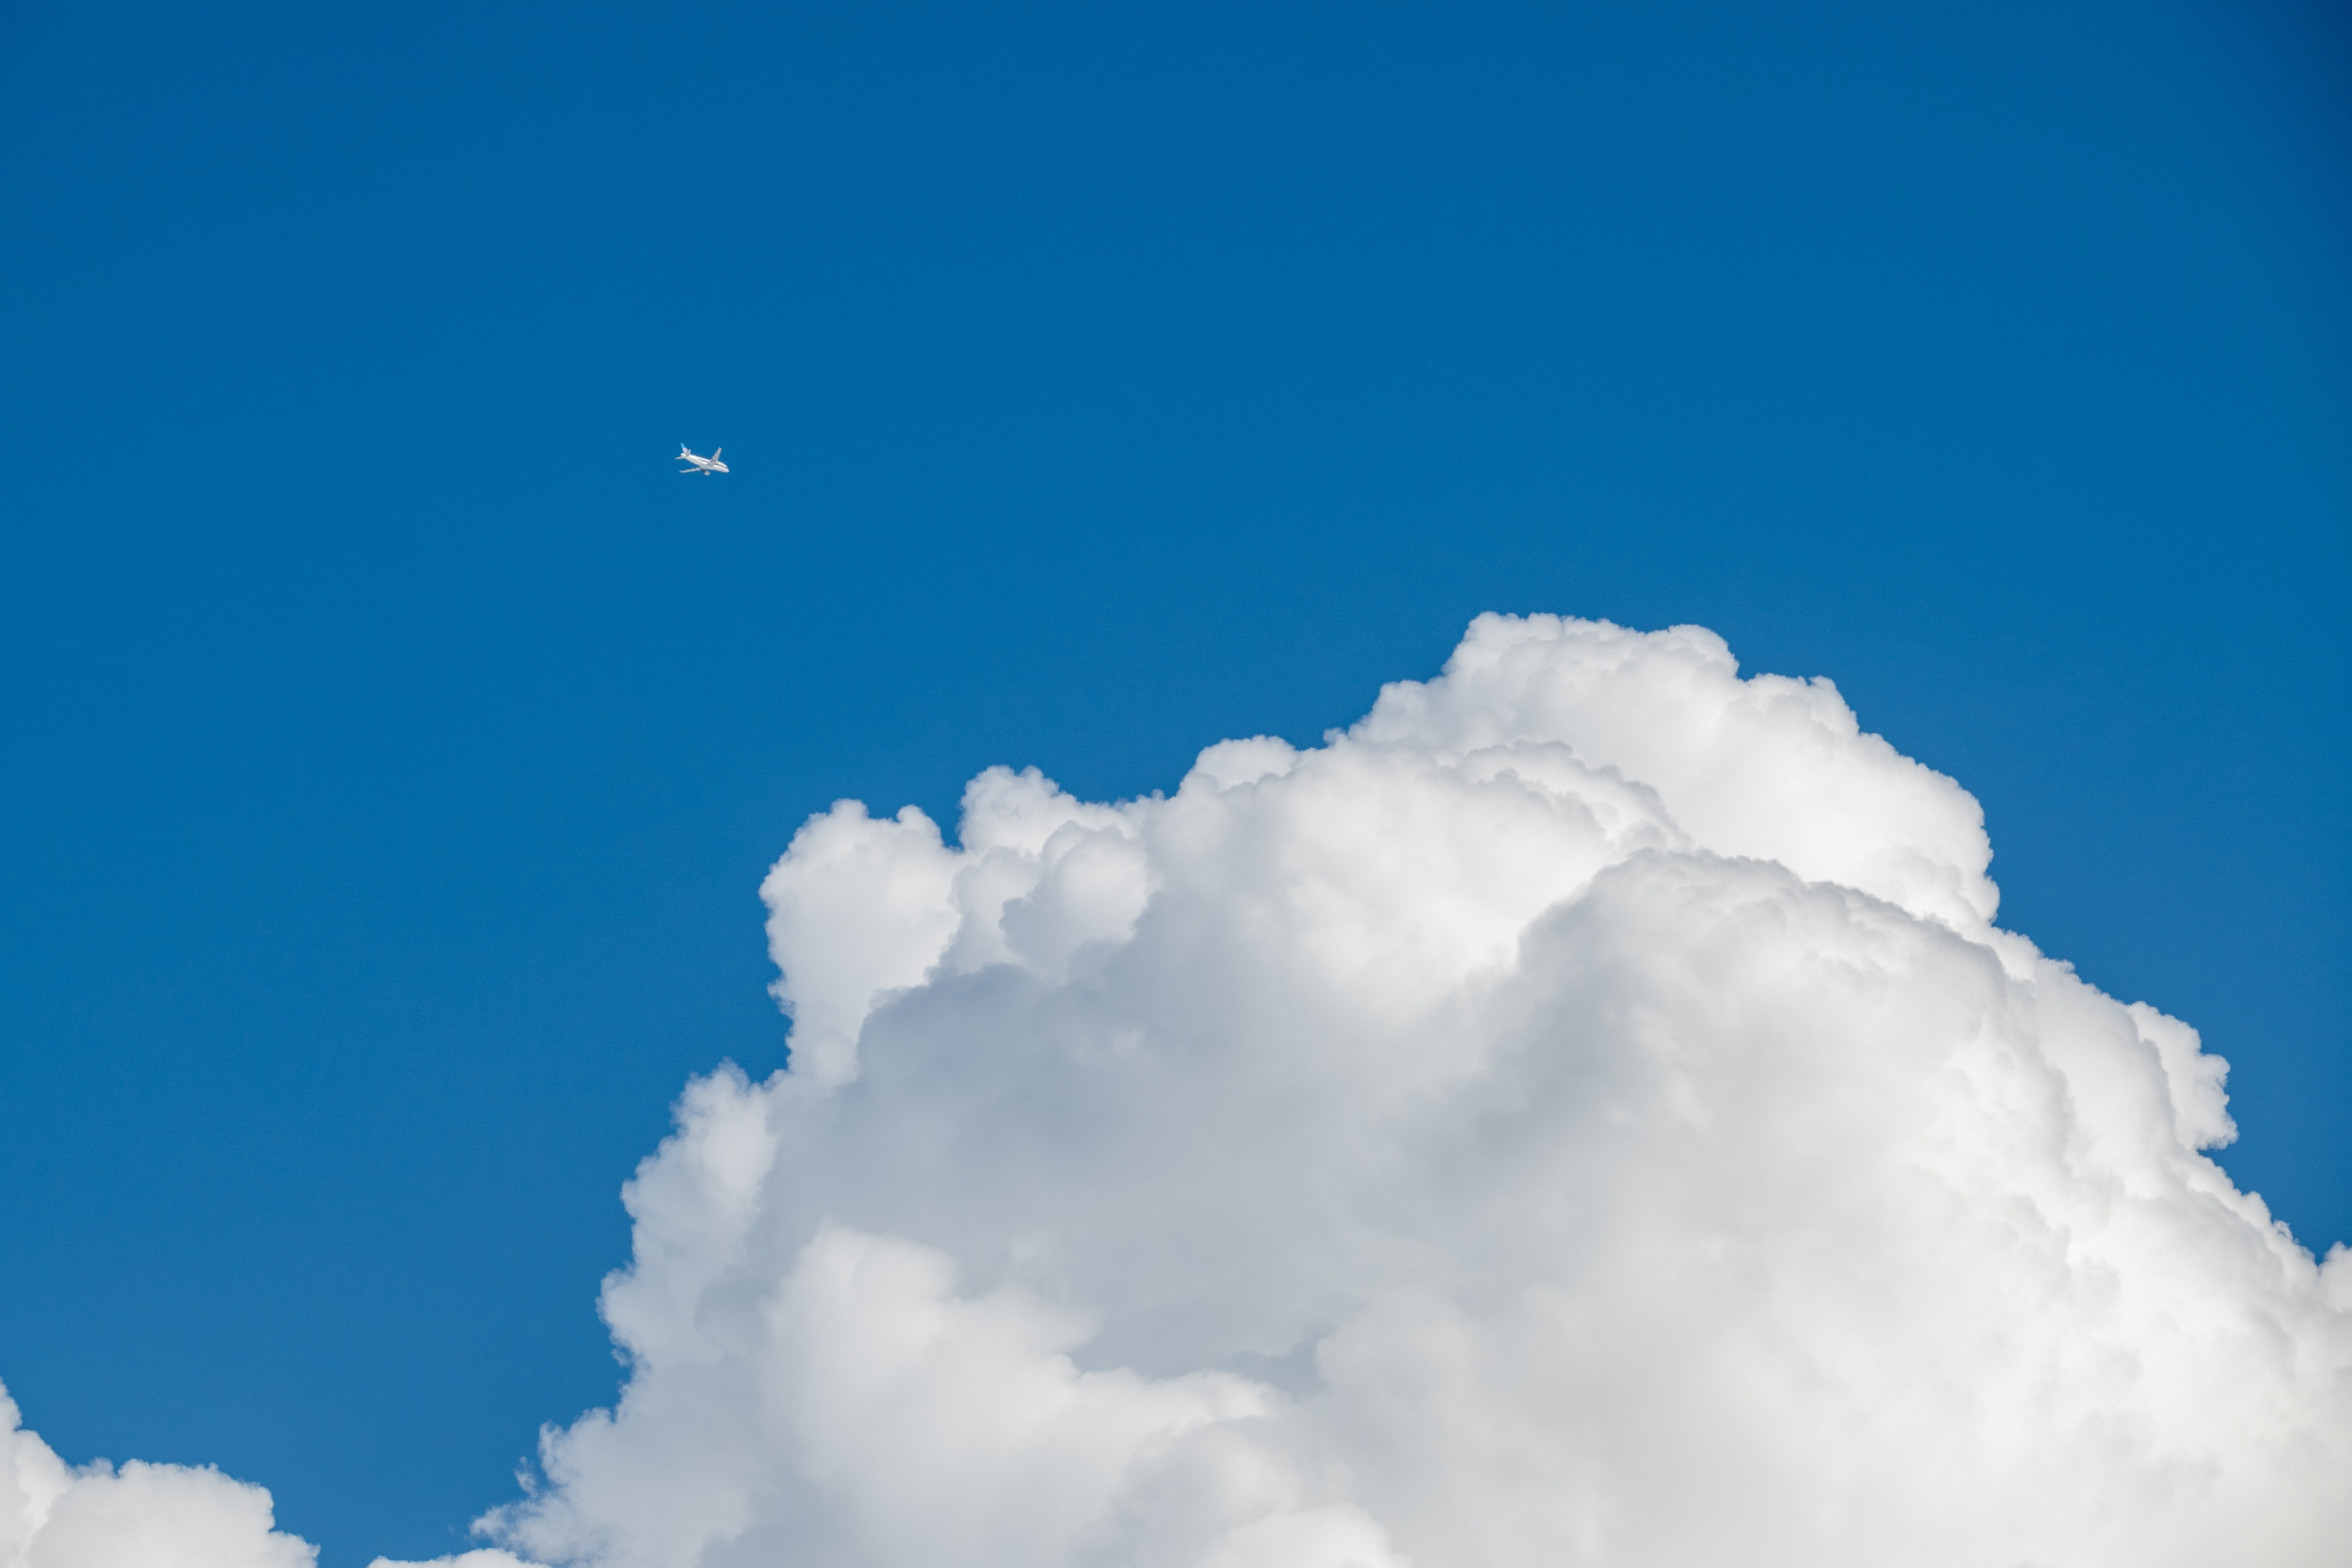Cumulus: (465, 560, 2352, 1568)
